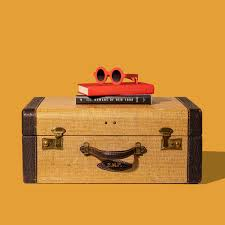suitcase: (20, 95, 203, 187)
